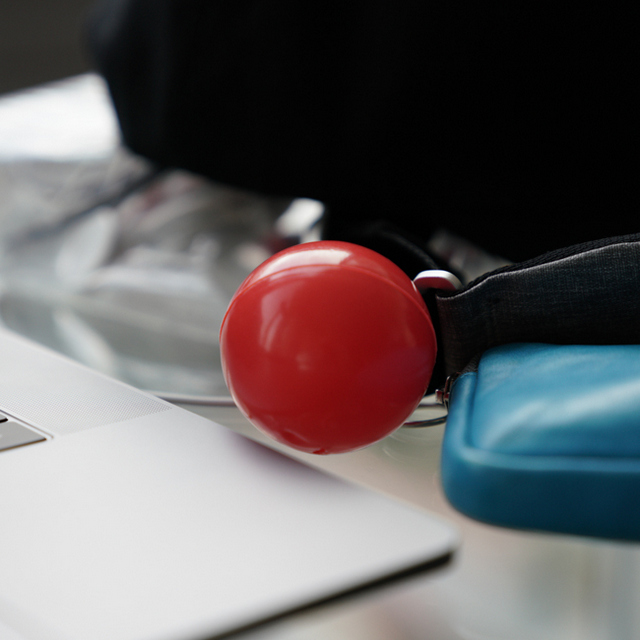Ball: (218, 239, 434, 455)
